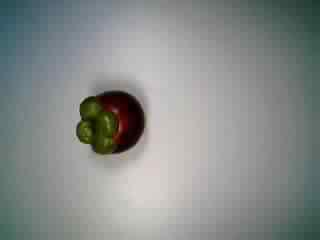mangosteen: (73, 85, 148, 158)
